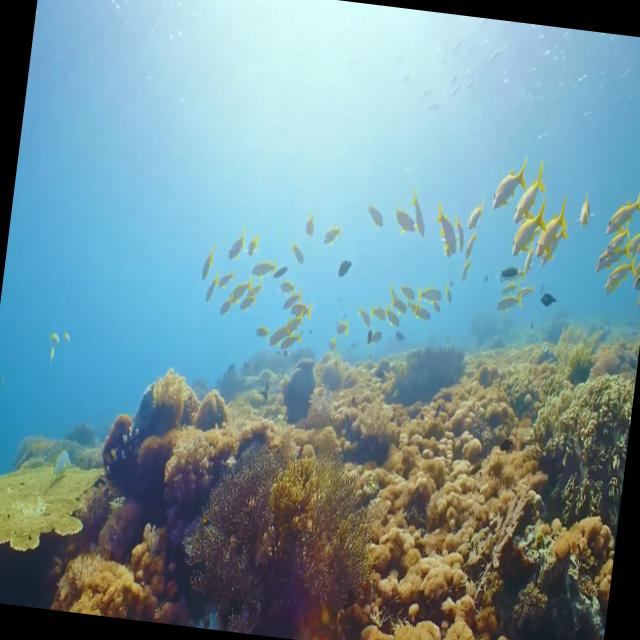fish: (488, 155, 533, 218), (507, 194, 548, 256), (596, 184, 640, 241), (534, 197, 568, 265), (591, 236, 640, 278), (430, 198, 462, 262), (508, 164, 540, 227), (539, 216, 572, 272), (574, 185, 607, 232), (408, 187, 437, 240), (533, 281, 571, 316), (604, 253, 638, 290), (224, 228, 250, 272), (316, 220, 344, 260), (392, 197, 416, 241), (452, 258, 478, 298), (468, 190, 493, 230), (275, 330, 307, 360), (493, 287, 523, 318), (491, 258, 520, 290), (359, 200, 386, 233), (331, 253, 354, 290), (198, 245, 218, 284), (250, 254, 280, 279), (608, 231, 629, 266), (270, 316, 294, 346), (281, 280, 306, 308), (514, 278, 541, 302), (460, 228, 480, 260), (228, 278, 250, 307), (364, 323, 388, 349), (288, 300, 312, 322), (254, 316, 271, 342), (630, 256, 640, 292), (302, 214, 314, 242), (636, 247, 640, 268)
